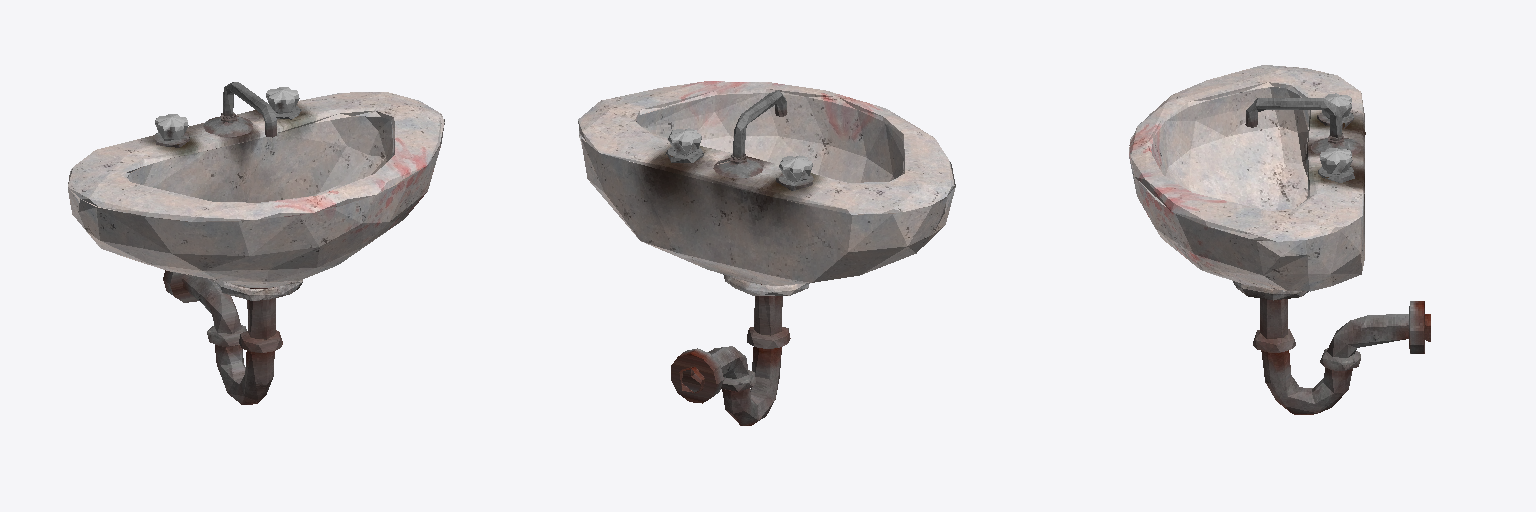
3 views of the same model, side by side, from view 1: azimuth 30°, elevation 25°; view 2: azimuth 150°, elevation 25°; view 3: azimuth 270°, elevation 25° (orthographic).
Visible parts, largest first — view 1: defaultMaterial.012_defaultMaterial.012_aiStandardSurface2SG, defaultMaterial.012_defaultMaterial.012_aiStandardSurface6SG, defaultMaterial.012_defaultMaterial.012_aiStandardSurface5SG; view 2: defaultMaterial.012_defaultMaterial.012_aiStandardSurface2SG, defaultMaterial.012_defaultMaterial.012_aiStandardSurface6SG, defaultMaterial.012_defaultMaterial.012_aiStandardSurface5SG; view 3: defaultMaterial.012_defaultMaterial.012_aiStandardSurface2SG, defaultMaterial.012_defaultMaterial.012_aiStandardSurface6SG, defaultMaterial.012_defaultMaterial.012_aiStandardSurface5SG.
Boxes of the visible parts, x1=… form: defaultMaterial.012_defaultMaterial.012_aiStandardSurface2SG: x1=68, y1=92, x2=444, y2=300; defaultMaterial.012_defaultMaterial.012_aiStandardSurface6SG: x1=154, y1=82, x2=301, y2=404; defaultMaterial.012_defaultMaterial.012_aiStandardSurface5SG: x1=155, y1=87, x2=299, y2=139; defaultMaterial.012_defaultMaterial.012_aiStandardSurface2SG: x1=578, y1=81, x2=955, y2=295; defaultMaterial.012_defaultMaterial.012_aiStandardSurface6SG: x1=665, y1=90, x2=813, y2=425; defaultMaterial.012_defaultMaterial.012_aiStandardSurface5SG: x1=668, y1=128, x2=812, y2=181; defaultMaterial.012_defaultMaterial.012_aiStandardSurface2SG: x1=1129, y1=65, x2=1365, y2=300; defaultMaterial.012_defaultMaterial.012_aiStandardSurface6SG: x1=1245, y1=98, x2=1430, y2=414; defaultMaterial.012_defaultMaterial.012_aiStandardSurface5SG: x1=1320, y1=93, x2=1352, y2=173.
Bounding box in the file's own units: 0.8958 × 0.7562 × 0.6557.
Materials: 3 (3 with a texture image).